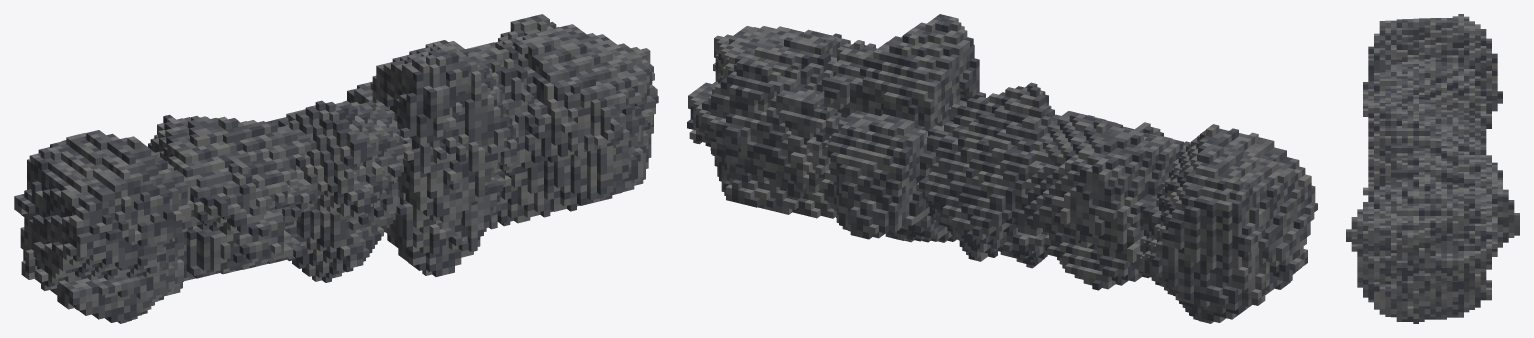
Rendered from stone.fbx.
The picture shows the model from 3 angles, left to right: view 1: azimuth 30°, elevation 25°; view 2: azimuth 150°, elevation 25°; view 3: azimuth 270°, elevation 25°; orthographic projection. The views are drawn at different scales.
Visible parts, largest first — view 1: Untitled; view 2: Untitled; view 3: Untitled.
Part boxes in pixels (<box>): Untitled: <box>14,14,658,323</box>; Untitled: <box>687,14,1317,323</box>; Untitled: <box>1346,14,1519,323</box>.
Size of the model in its own units: 1 by 0.3483 by 0.3272.
Materials: 1 (1 with a texture image).
